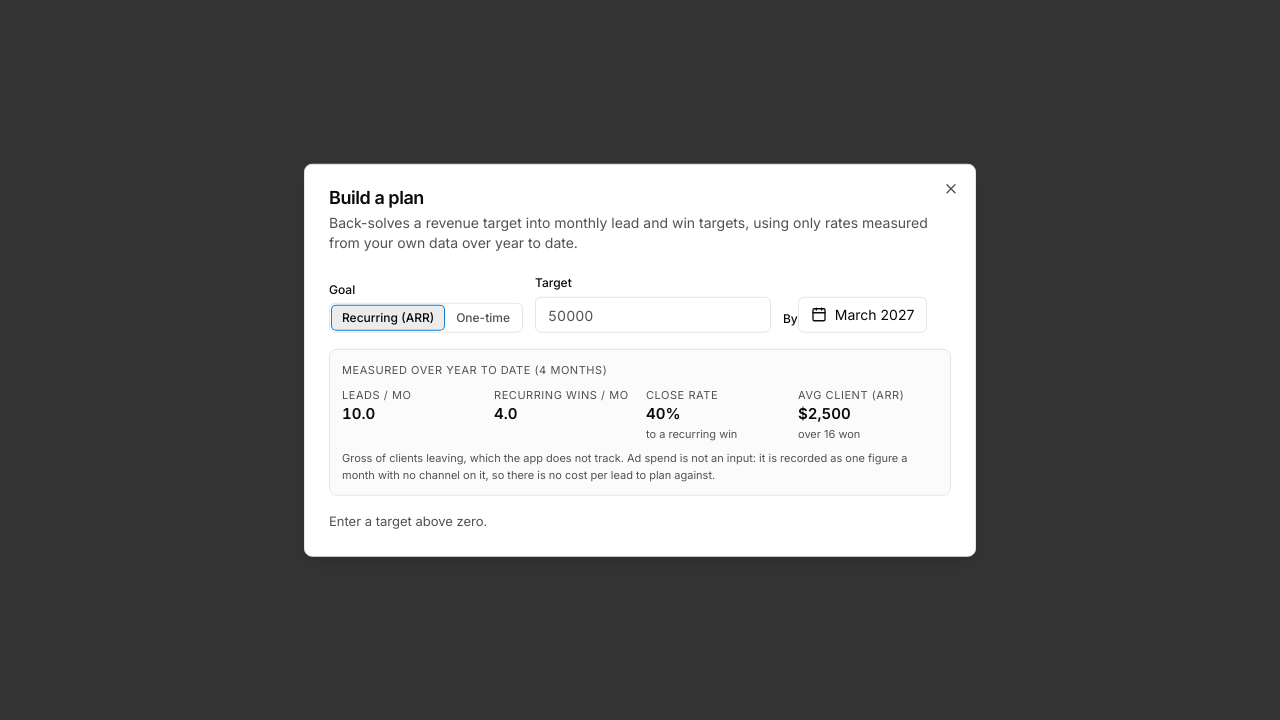
Scenario: GoalBuilderDialog › reads $50,000.00 as 50000
Type "$50,000.00" into the field labelled "Target" at {"x": 653, "y": 315}, box [535,297,771,333]
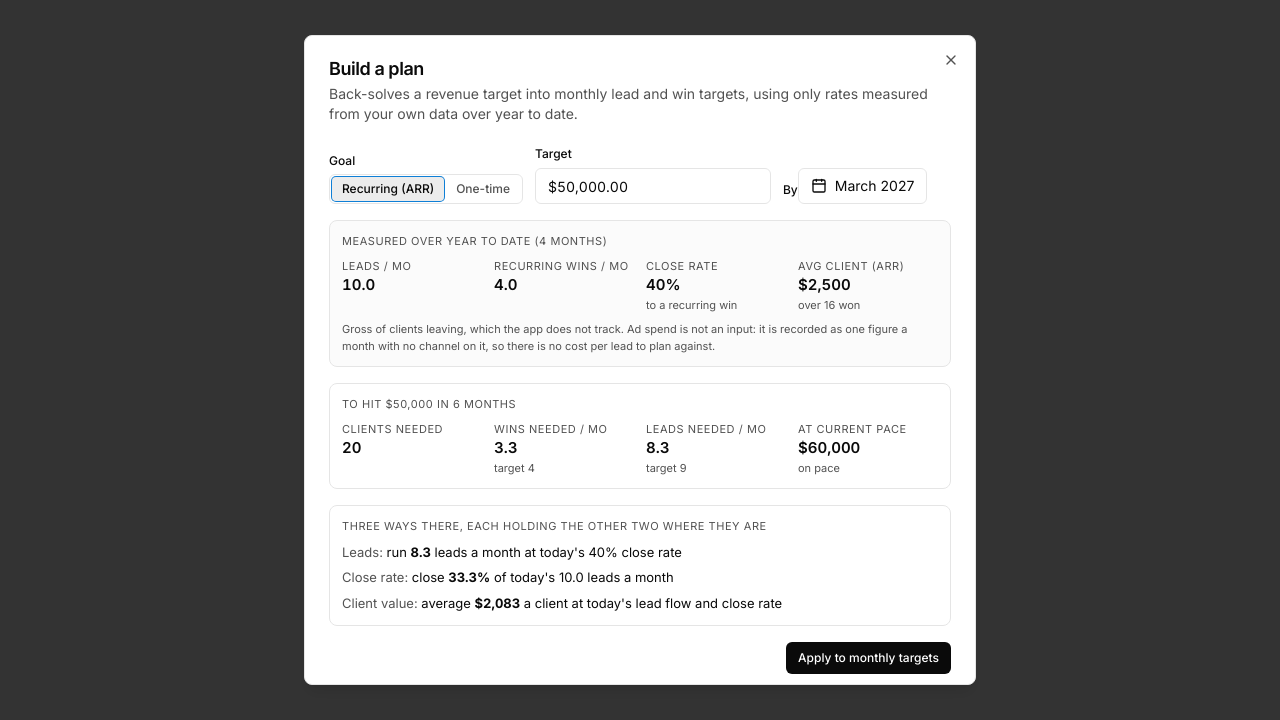
Expected: the text "20" is shown, [342,438,361,457]
